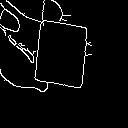cube: (28, 16, 109, 92)
